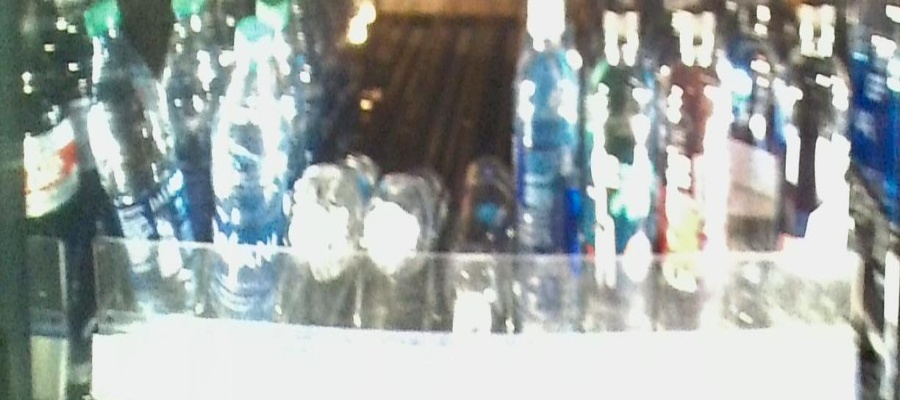bottle: (514, 2, 584, 365), (660, 14, 733, 357), (588, 2, 657, 364), (208, 15, 282, 346), (365, 153, 425, 305), (293, 152, 353, 301), (448, 206, 507, 349)
